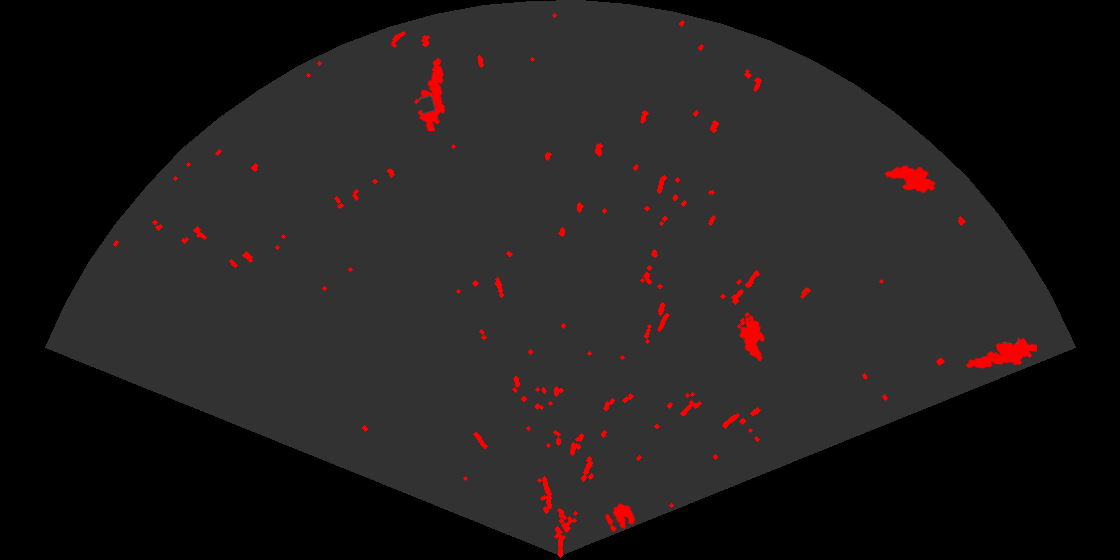AUV: (883, 164, 938, 195), (738, 314, 766, 363)
ball: (604, 501, 637, 534)
frogman: (413, 56, 447, 131), (964, 336, 1037, 370)
